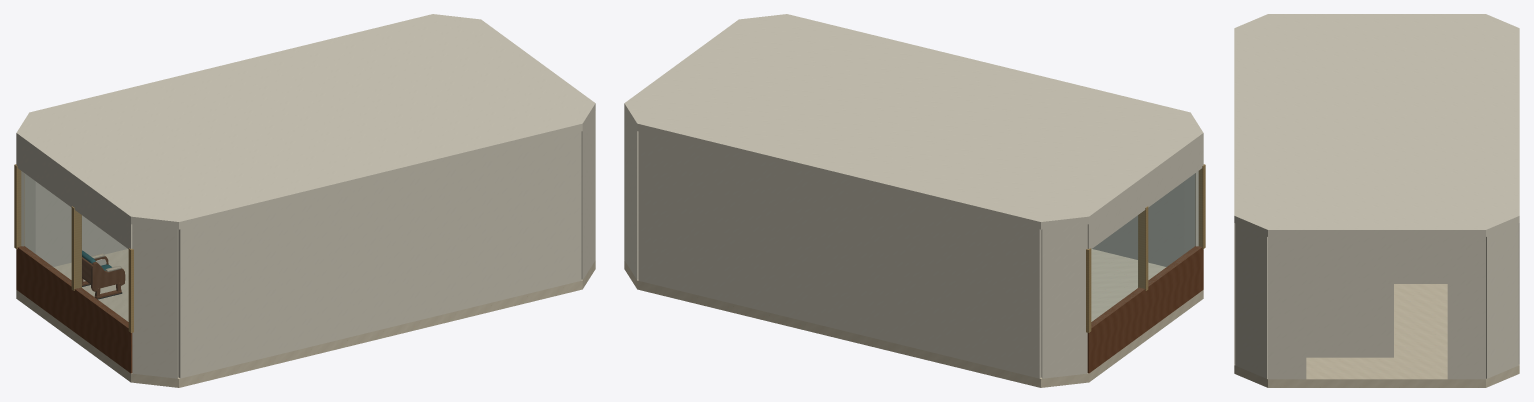
Rendered from D04_PORT_AFT_HOME_954_r001.glb.
The picture shows the model from 3 angles, left to right: view 1: azimuth 30°, elevation 25°; view 2: azimuth 150°, elevation 25°; view 3: azimuth 270°, elevation 25°; orthographic projection. The views are drawn at different scales.
Parts seen in each view (by area): view 1: PA954_D04SH961_Roof, PA954_D04SH961_Shell_7, PA954_D04SH961_GardenGlass, PA954_D04SH961_Floor, PA954_D04SH961_Shell_0, PA954_D04SH961_GardenDado, PA954_D04SH961_Shell_3, PA954_D04SH961_GardenHead, PA954_D04SH961_Shell_6, PA954_D04SH961_Shell_2, PA954_D04SH961_WindowMullion_1, PA954_D04SH961_WindowMullion_2 (+2 smaller); view 2: PA954_D04SH961_Roof, PA954_D04SH961_Shell_3, PA954_D04SH961_Floor, PA954_D04SH961_GardenGlass, PA954_D04SH961_Shell_2, PA954_D04SH961_GardenDado, PA954_D04SH961_Shell_7, PA954_D04SH961_GardenHead, PA954_D04SH961_Shell_4, PA954_D04SH961_Shell_0, PA954_D04SH961_WindowMullion_1, PA954_D04SH961_WindowMullion_0 (+1 smaller); view 3: PA954_D04SH961_Roof, PA954_D04SH961_Floor, PA954_D04SH961_EntryHeader, PA954_D04SH961_BathDogleg, PA954_D04SH961_EntryWall_0, PA954_D04SH961_EntryWall_1, PA954_D04SH961_Shell_4, PA954_D04SH961_Shell_6, PA954_D04SH961_BathScreen, PA954_D04SH961_Shell_3, PA954_D04SH961_Shell_7.
Part boxes in pixels (left/top/right/bottom): PA954_D04SH961_Roof: left=16, top=14, right=595, bottom=229; PA954_D04SH961_Shell_7: left=178, top=131, right=581, bottom=378; PA954_D04SH961_GardenGlass: left=20, top=173, right=128, bottom=324; PA954_D04SH961_Floor: left=16, top=249, right=595, bottom=387; PA954_D04SH961_Shell_0: left=132, top=224, right=178, bottom=378; PA954_D04SH961_GardenDado: left=16, top=246, right=132, bottom=373; PA954_D04SH961_Shell_3: left=35, top=181, right=127, bottom=266; PA954_D04SH961_GardenHead: left=16, top=140, right=132, bottom=248; PA954_D04SH961_Shell_6: left=581, top=111, right=595, bottom=279; PA954_D04SH961_Shell_2: left=21, top=171, right=35, bottom=253; PA954_D04SH961_WindowMullion_1: left=71, top=206, right=81, bottom=290; PA954_D04SH961_WindowMullion_2: left=14, top=164, right=24, bottom=249; PA954_D04SH961_Roof: left=624, top=14, right=1203, bottom=229; PA954_D04SH961_Shell_3: left=638, top=131, right=1041, bottom=378; PA954_D04SH961_Floor: left=624, top=249, right=1203, bottom=387; PA954_D04SH961_GardenGlass: left=1091, top=173, right=1199, bottom=325; PA954_D04SH961_Shell_2: left=1041, top=224, right=1087, bottom=378; PA954_D04SH961_GardenDado: left=1087, top=246, right=1203, bottom=373; PA954_D04SH961_Shell_7: left=1092, top=181, right=1184, bottom=266; PA954_D04SH961_GardenHead: left=1087, top=140, right=1203, bottom=248; PA954_D04SH961_Shell_4: left=624, top=111, right=638, bottom=279; PA954_D04SH961_Shell_0: left=1184, top=171, right=1198, bottom=253; PA954_D04SH961_WindowMullion_1: left=1138, top=206, right=1148, bottom=290; PA954_D04SH961_WindowMullion_0: left=1195, top=164, right=1205, bottom=249; PA954_D04SH961_Roof: left=1234, top=14, right=1519, bottom=237; PA954_D04SH961_Floor: left=1234, top=284, right=1519, bottom=387; PA954_D04SH961_EntryHeader: left=1306, top=237, right=1447, bottom=283; PA954_D04SH961_BathDogleg: left=1306, top=284, right=1393, bottom=357; PA954_D04SH961_EntryWall_0: left=1268, top=237, right=1306, bottom=379; PA954_D04SH961_EntryWall_1: left=1447, top=237, right=1485, bottom=379; PA954_D04SH961_Shell_4: left=1486, top=223, right=1518, bottom=378; PA954_D04SH961_Shell_6: left=1235, top=223, right=1267, bottom=378; PA954_D04SH961_BathScreen: left=1387, top=284, right=1393, bottom=357; PA954_D04SH961_Shell_3: left=1518, top=223, right=1519, bottom=364; PA954_D04SH961_Shell_7: left=1234, top=223, right=1235, bottom=364.
Size of the model in its own units: 12.92 by 4.4 by 7.2.
36 materials, 21 textured.
